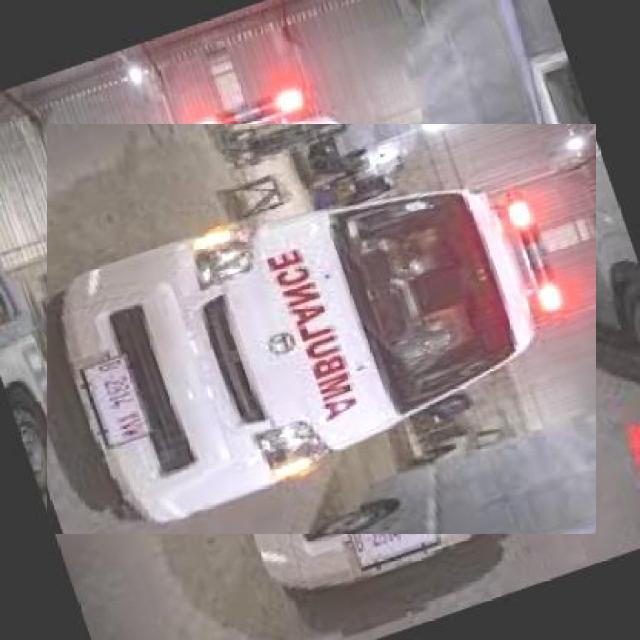emergency-vehicle: (80, 88, 562, 570)
